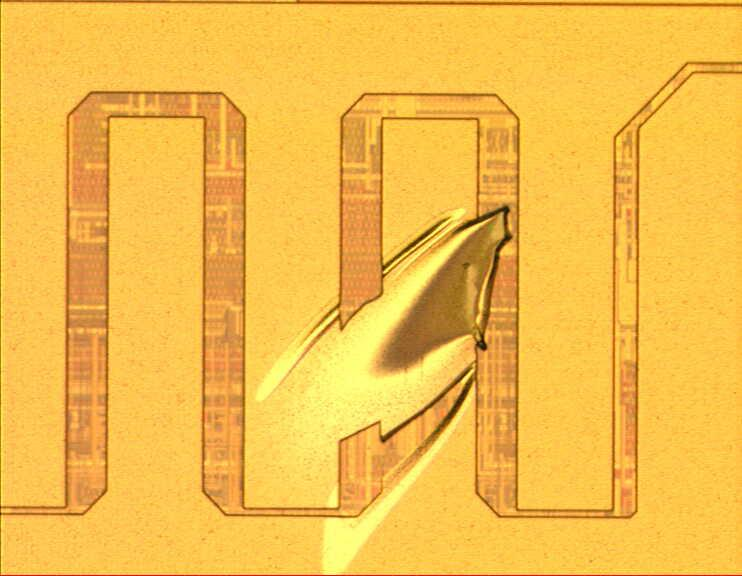BLOCK ETCH: (254, 207, 515, 576)
